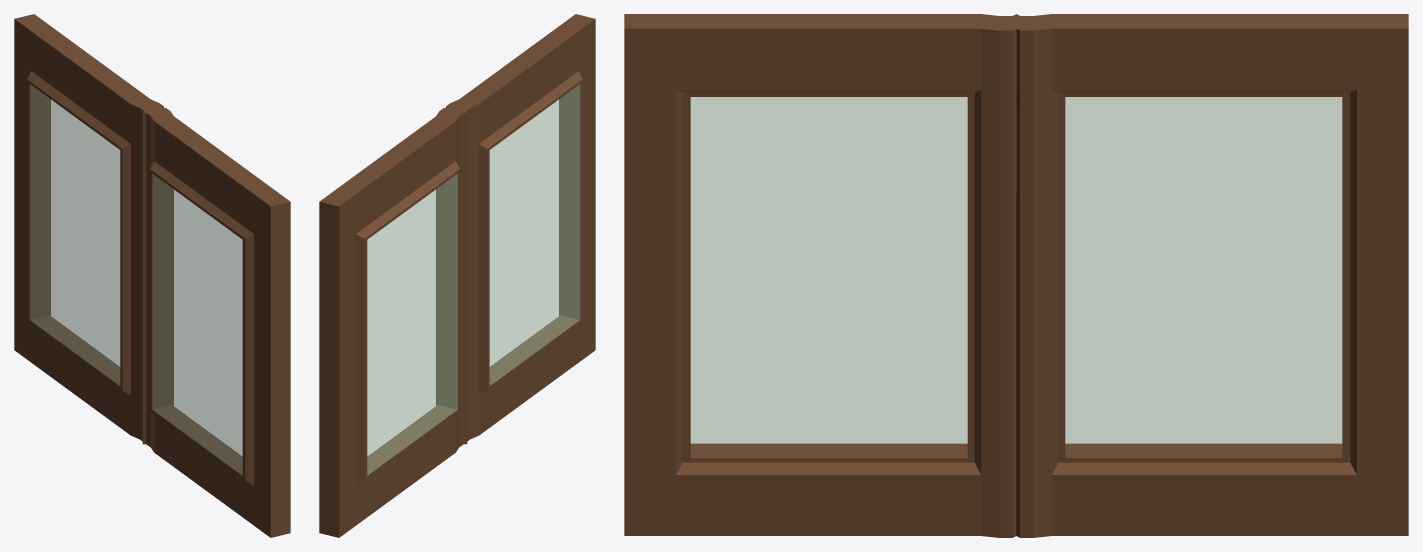
File: window2.fbx
3 views of the same model, side by side, from view 1: azimuth 30°, elevation 25°; view 2: azimuth 150°, elevation 25°; view 3: azimuth 270°, elevation 25° (orthographic). The views are drawn at different scales.
Visible parts, largest first — view 1: window; view 2: window; view 3: window.
Boxes of the visible parts, box(x1,y1,x2,y2) form: window: box(14, 14, 290, 537); window: box(319, 14, 595, 537); window: box(624, 14, 1408, 537).
Size of the model in its own units: 50.06 by 551 by 772.
